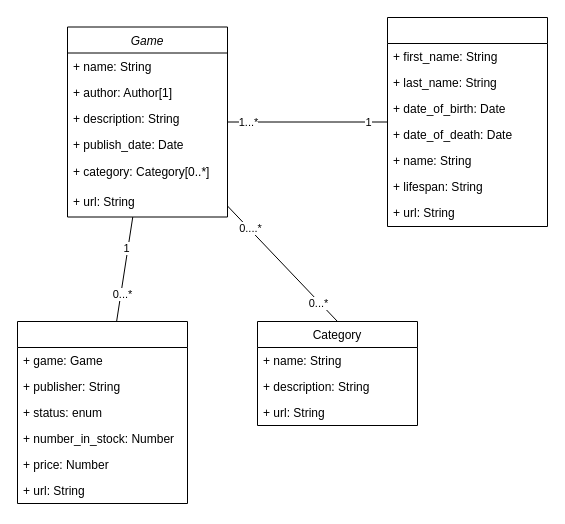
Image size: 565x524. Some labels were removed from this diagram. The box of each missing label's shape, as (x1, y1, x2, y2) in pixels:
Author: (386, 16, 548, 226)
GameInstance: (16, 320, 188, 504)
